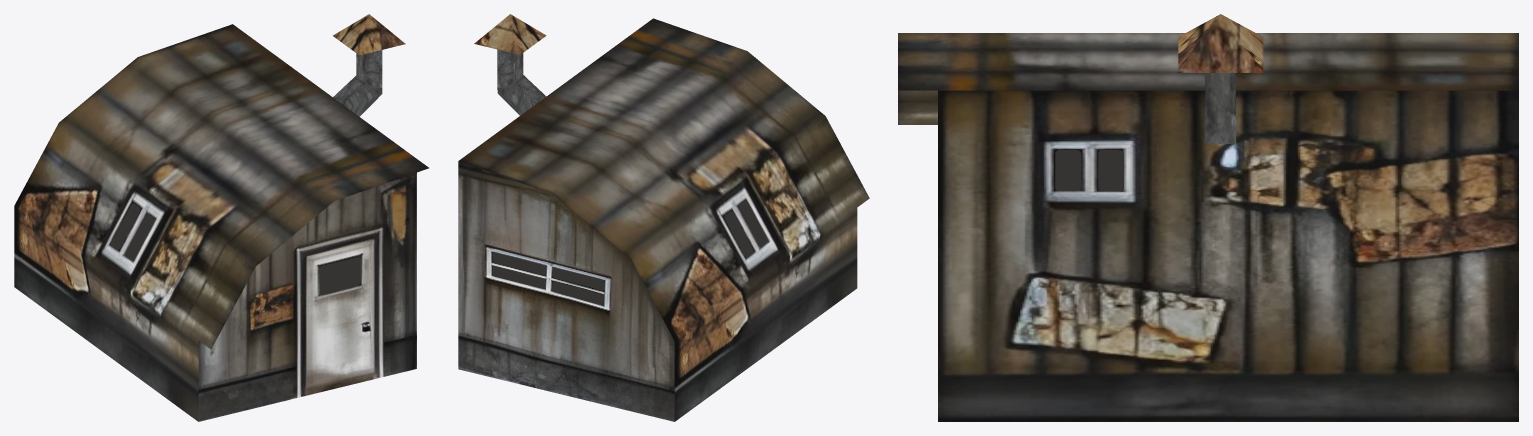
File: singlecivlivingc_hdtex.glb
3 renders of one model, left to right at view 1: azimuth 30°, elevation 25°; view 2: azimuth 150°, elevation 25°; view 3: azimuth 270°, elevation 25°, orthographic. The views are drawn at different scales.
Visible parts, largest first — view 1: Cylinder01, LitWin_SingleCivLivingC; view 2: Cylinder01, LitWin_SingleCivLivingC; view 3: Cylinder01, LitWin_SingleCivLivingC.
Part boxes in pixels (x1=…): Cylinder01: x1=14, y1=14, x2=428, y2=421; LitWin_SingleCivLivingC: x1=111, y1=203, x2=360, y2=294; Cylinder01: x1=458, y1=14, x2=869, y2=421; LitWin_SingleCivLivingC: x1=492, y1=200, x2=767, y2=304; Cylinder01: x1=898, y1=14, x2=1518, y2=421; LitWin_SingleCivLivingC: x1=1055, y1=150, x2=1123, y2=191.
Bounding box in the file's own units: 4.73 × 4.45 × 5.69.
Materials: 1 (1 with a texture image).
